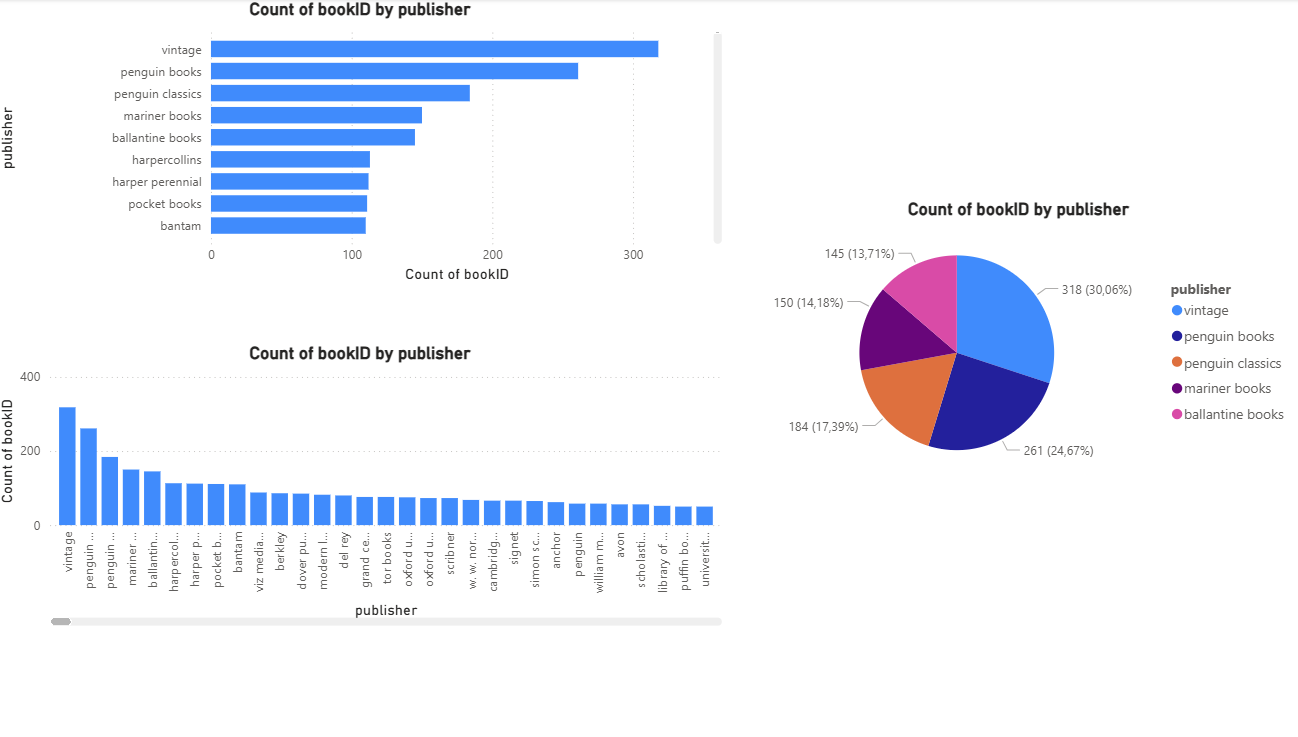

Layout of this report page (visuals, bound fields, positions):
{"tool":"powerbi","page":{"name":"Publishing Insights","canvas":[1280,720],"ordinal":2},"visuals":[{"type":"barChart","fields":{"Y":["CountNonNull(Books.bookID)"],"Category":["Books.publisher"]},"box":[9.7,0,713.9,280.1],"z":0},{"type":"clusteredColumnChart","fields":{"Category":["Books.publisher"],"Y":["CountNonNull(Books.bookID)"]},"box":[9.7,334.6,713.9,280.1],"z":1},{"type":"pieChart","fields":{"Y":["CountNonNull(Books.bookID)"],"Category":["Books.publisher"]},"box":[734.3,194.5,545.7,280.1],"z":2}]}

Visuals, with their boxes in screenshot pixels (x1, y1, x2, y2), scaled from the page's 1280x720 canvas onto the 1298x737 screenshot:
barChart - CountNonNull(Books.bookID) x Books.publisher: select_region(10, 0, 734, 287)
clusteredColumnChart - Books.publisher x CountNonNull(Books.bookID): select_region(10, 343, 734, 629)
pieChart - CountNonNull(Books.bookID) x Books.publisher: select_region(745, 199, 1297, 486)
